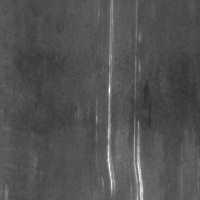scratches: (103, 0, 122, 198), (129, 117, 149, 199)
